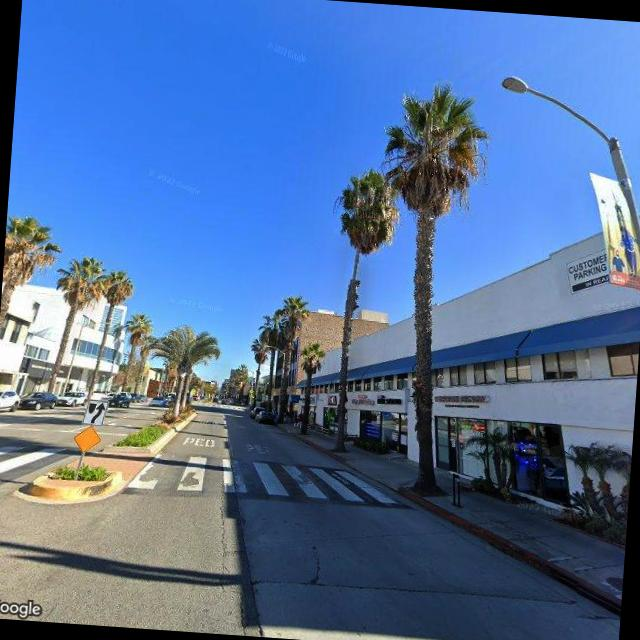pothole: (210, 491, 233, 558), (304, 541, 326, 586)
